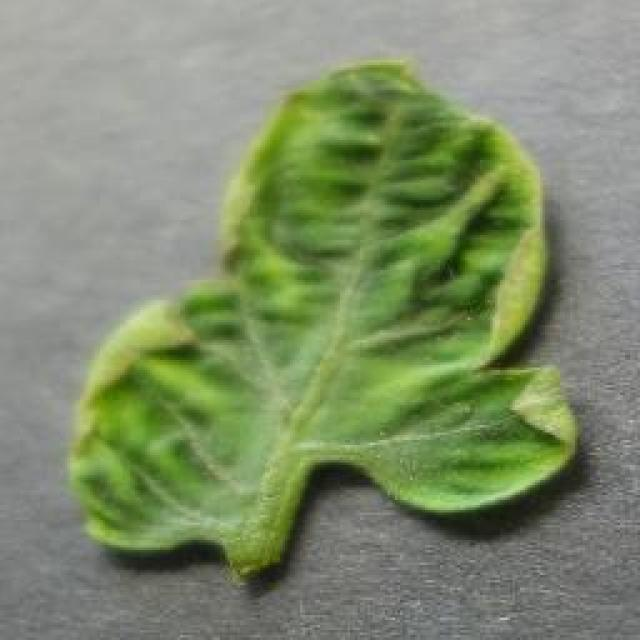Tom_Yellow_Leaf_Curl_Virus: (229, 61, 569, 530)
